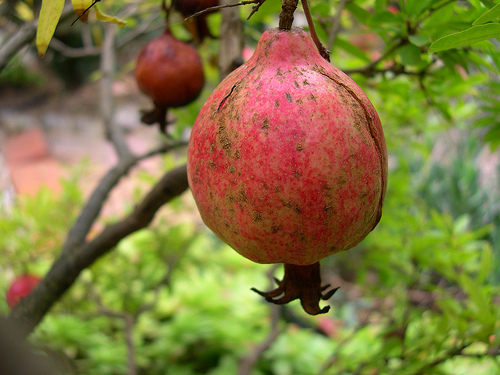pomogranate: (184, 27, 391, 315), (137, 33, 205, 141)
